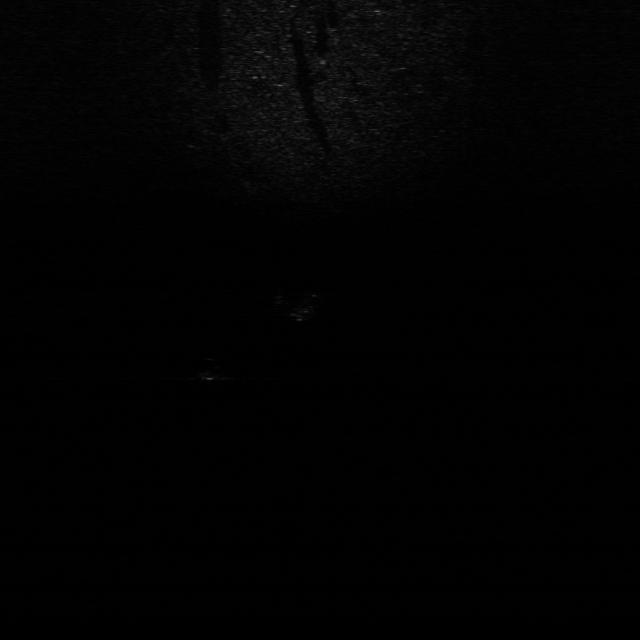ball: (188, 354, 228, 383)
human body: (274, 287, 332, 323)
